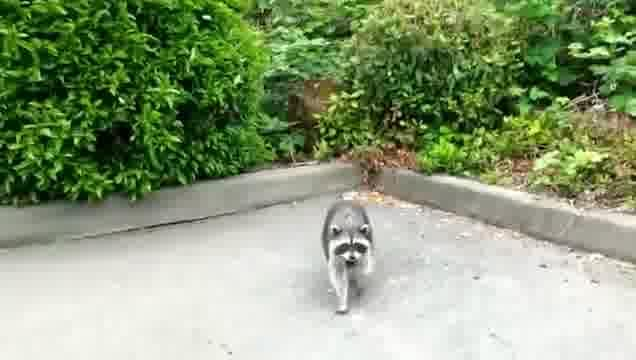raccoon: (320, 195, 376, 319)
